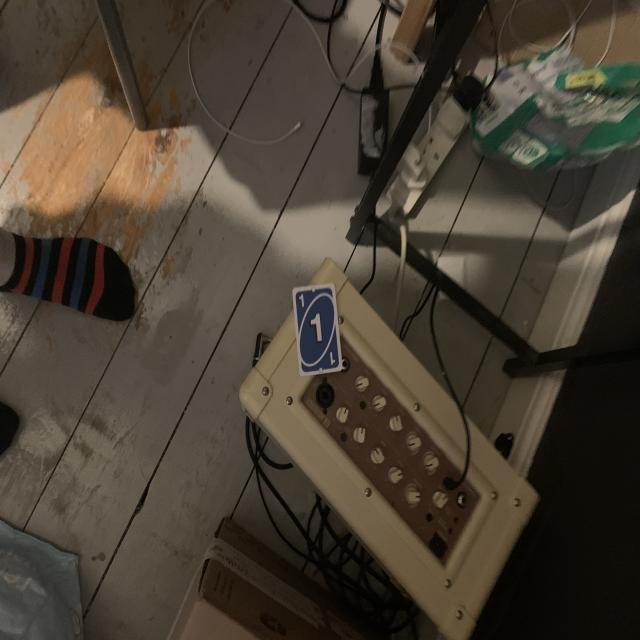lblue-1: (296, 291, 310, 312)
